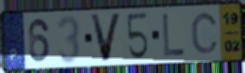3: (57, 12, 83, 66)
5: (126, 11, 149, 61)
6: (27, 17, 51, 64)
C: (189, 11, 221, 56)
L: (161, 13, 187, 58)
V: (88, 12, 124, 64)
